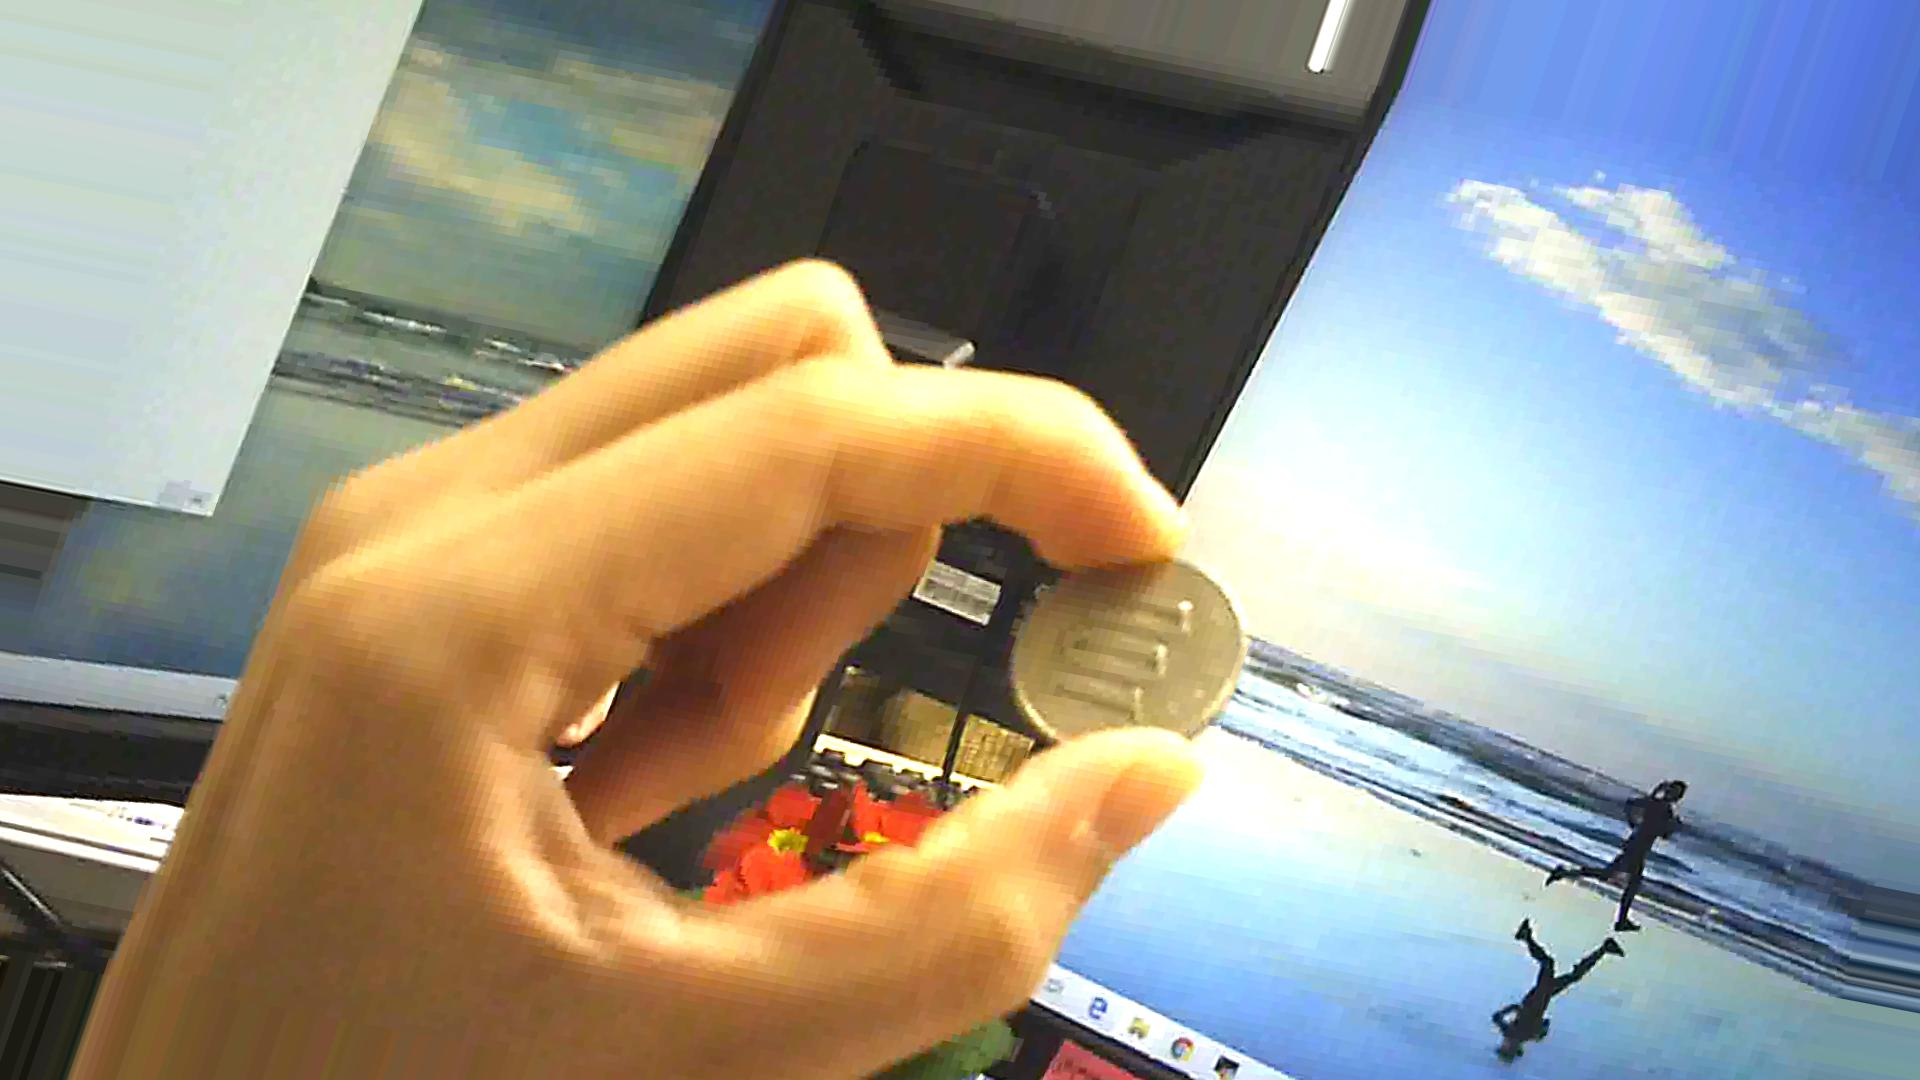100 Yen: (1002, 549, 1265, 770)
